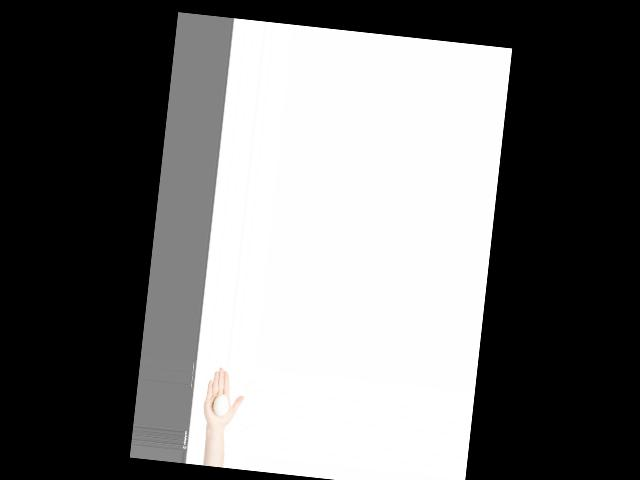egg: (212, 393, 229, 416)
